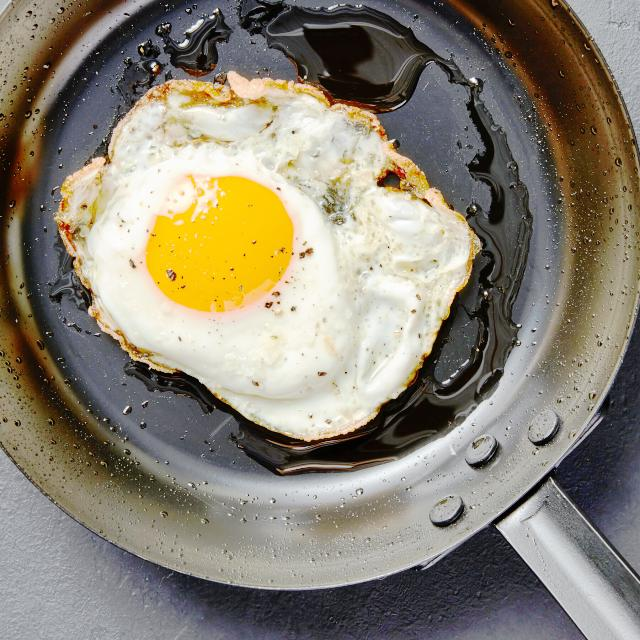fried_eggs: (62, 73, 475, 440)
